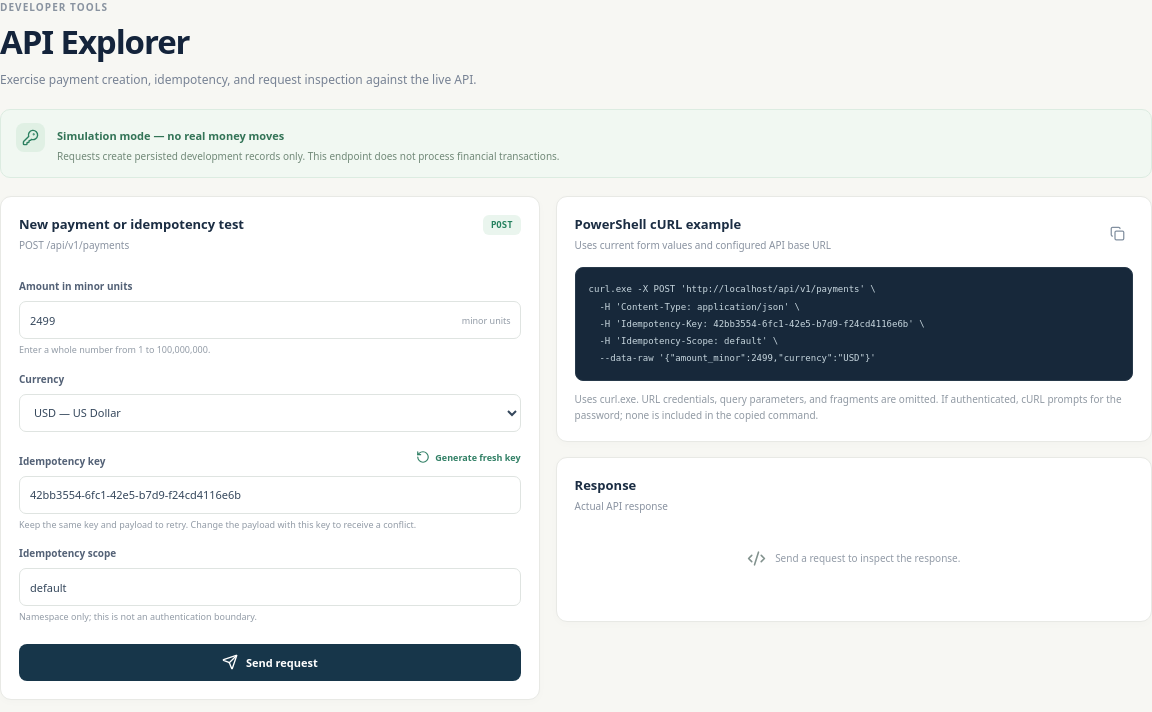
Test: API Explorer › shows server validation errors as rejected requests, not unknown outcomes
Click the button "Send request" at (270, 662), box [19,644,521,681]
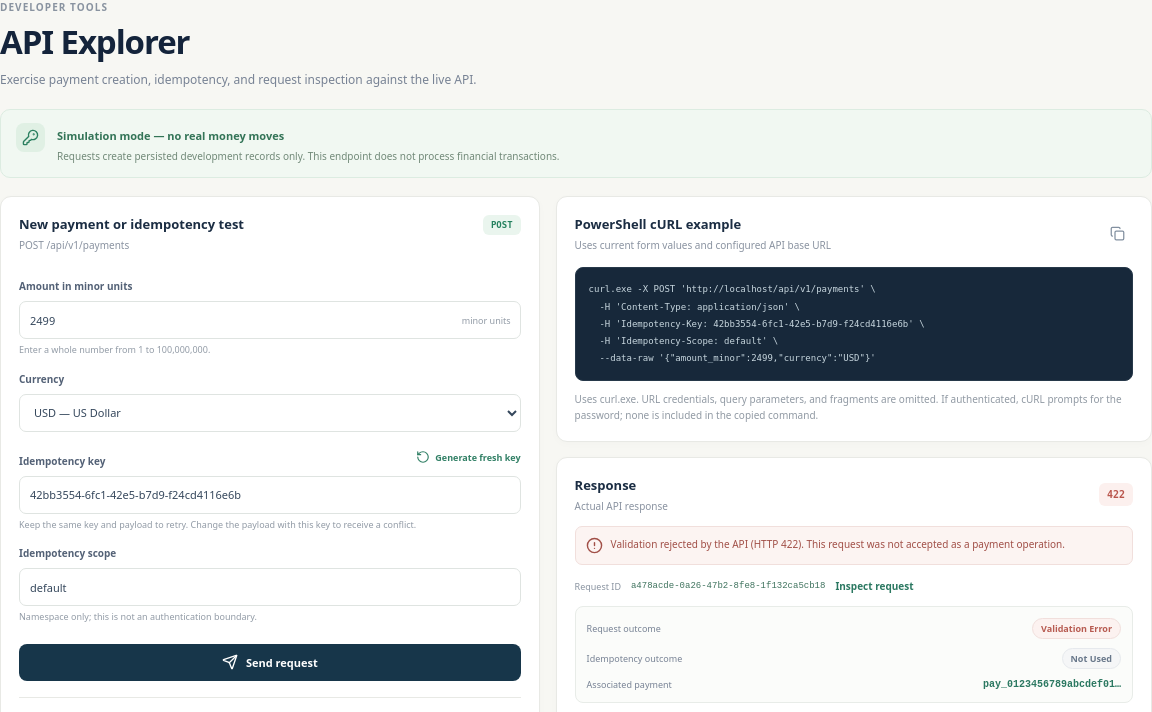
Expected: the text "POST" is shown, [483,215,521,235]
Expected: the text "422" is shown, [1099,483,1133,506]
Expected: the text "Validation rejected by the API (HTTP 422)" is shown, [611,537,1065,551]
